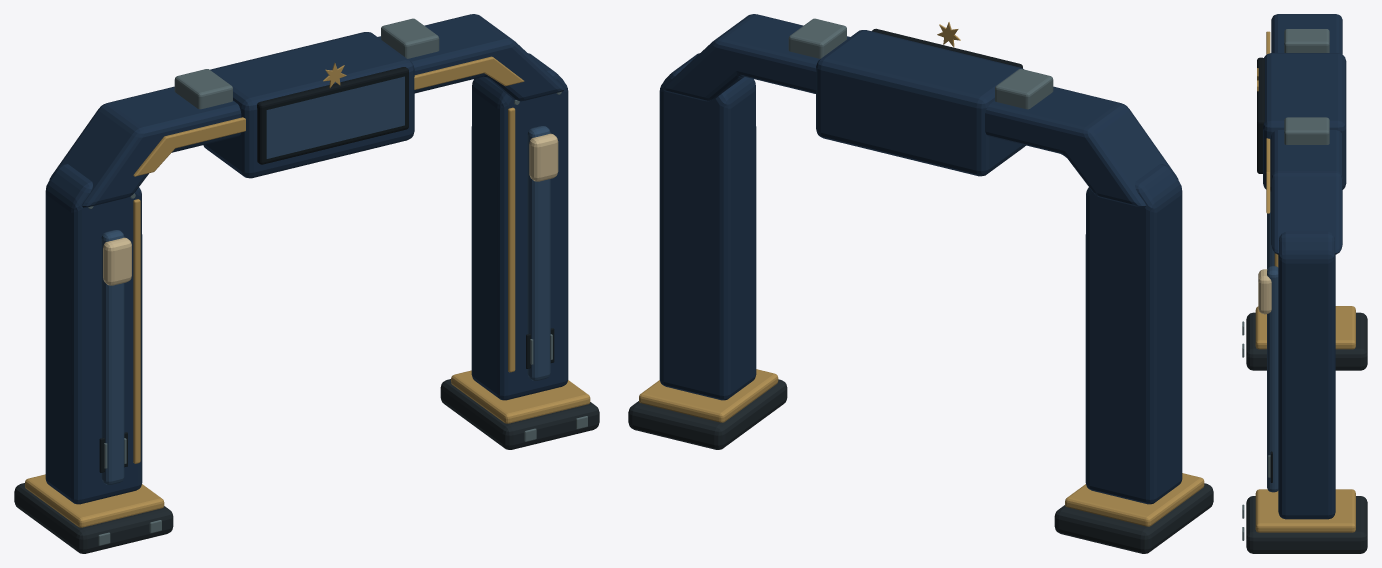
Rendered from LANDING_GATE_FRAME.hi.glb.
The picture shows the model from 3 angles, left to right: view 1: azimuth 30°, elevation 25°; view 2: azimuth 150°, elevation 25°; view 3: azimuth 270°, elevation 25°; orthographic projection. The views are drawn at different scales.
Parts seen in each view (by area): view 1: Body_Mesh, SignSurface; view 2: Body_Mesh; view 3: Body_Mesh.
Boxes of the visible parts, x1,y1,x2,y2 form: Body_Mesh: [14, 14, 599, 553]; SignSurface: [266, 76, 404, 158]; Body_Mesh: [628, 14, 1213, 553]; Body_Mesh: [1242, 14, 1367, 553].
Size of the model in its own units: 4.46 by 3.48 by 1.05.
